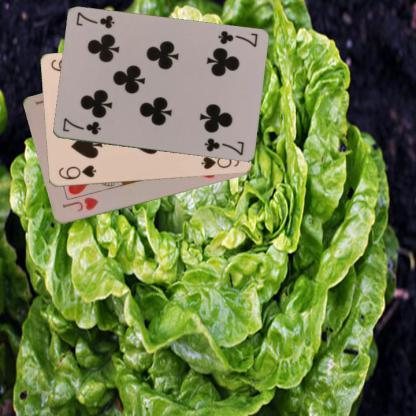6s: (56, 162, 98, 181)
7c: (215, 28, 258, 49), (60, 115, 102, 136)
Jh: (60, 195, 100, 213)
